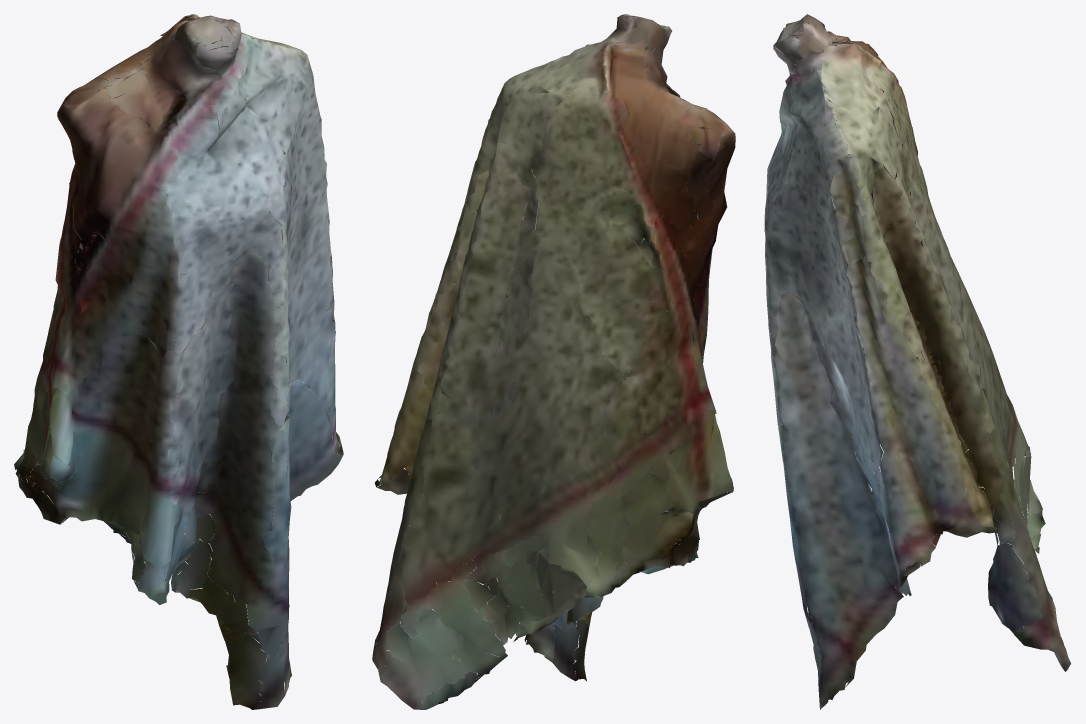
File: obj_shawl_3d_scan.glb
The picture shows the model from 3 angles, left to right: view 1: azimuth 30°, elevation 25°; view 2: azimuth 150°, elevation 25°; view 3: azimuth 270°, elevation 25°; orthographic projection. The views are drawn at different scales.
Parts seen in each view (by area): view 1: Object_2; view 2: Object_2; view 3: Object_2.
Boxes of the visible parts, left/top/right/bottom form: Object_2: left=14, top=14, right=343, bottom=709; Object_2: left=372, top=14, right=735, bottom=709; Object_2: left=764, top=14, right=1070, bottom=709.
Size of the model in its own units: 0.8008 by 1.7 by 0.7212.
Materials: 1 (1 with a texture image).
